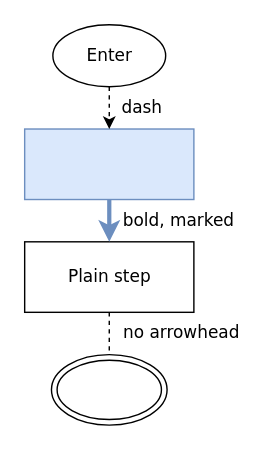
The diagram is 264 pixels wide and 450 high, and some of its shapes have lost their labels. The centre of each missing label's shape, as x and y in pixels:
Bold step: the point at 108,164
Done: the point at 108,389
